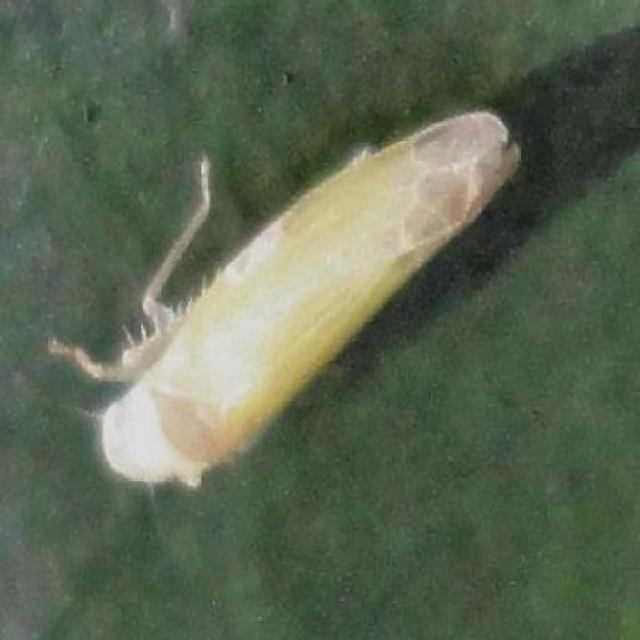green-leafhopper: (43, 104, 525, 485)
